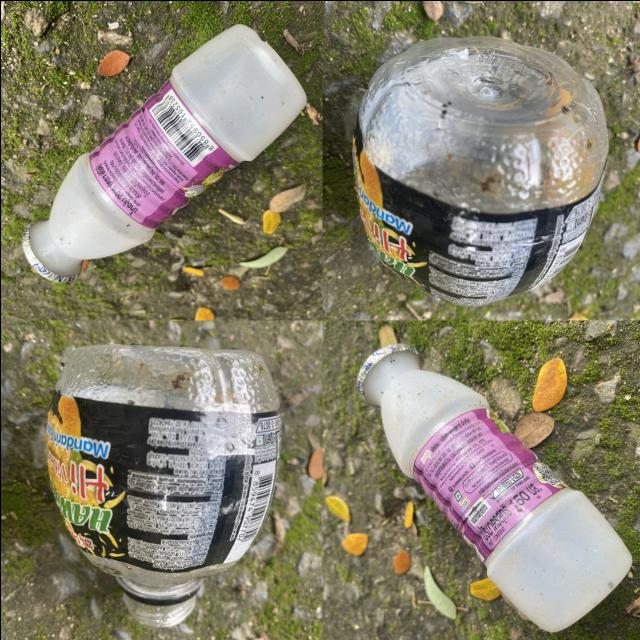plastik: (357, 343, 631, 631), (22, 24, 305, 281), (352, 36, 607, 306), (46, 344, 280, 626)
